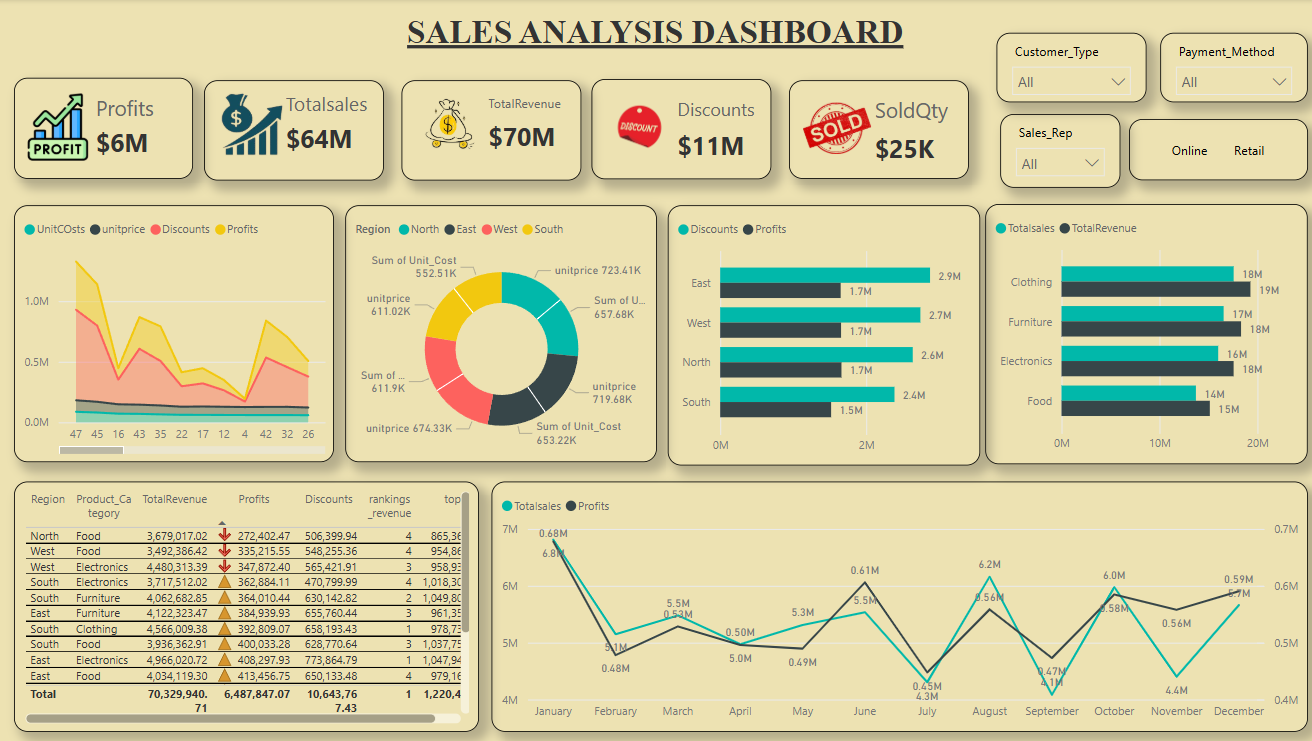

The dashboard page shown, as its layout file describes it:
{"tool":"powerbi","page":{"name":"Page 2","canvas":[1280,720],"ordinal":0},"visuals":[{"type":"clusteredBarChart","fields":{"Category":["sales_data.Product_Category"],"Y":["DATE.Totalsales","sales_data.TotalRevenue"]},"box":[956.4,197.6,311.5,251.1],"z":0},{"type":"clusteredBarChart","fields":{"Y":["sales_data.Discounts","sales_data.Profits"],"Category":["sales_data.Region"]},"box":[650.4,199,301.9,251.1],"z":1000},{"type":"lineChart","fields":{"Y":["DATE.Totalsales"],"Y2":["sales_data.Profits"],"Category":["DATE.Date.Variation.Date Hierarchy.Month"]},"box":[480.2,465.7,787.8,241.3],"z":2000},{"type":"slicer","fields":{"Values":["sales_data.Payment_Method"]},"box":[1125.6,32.6,142.4,67.6],"z":3000},{"type":"slicer","fields":{"Values":["sales_data.Sales_Rep"]},"box":[971.2,111,115.8,71.2],"z":4000},{"type":"slicer","fields":{"Values":["sales_data.Sales_Channel"]},"box":[1095.4,115.8,172.5,59.1],"z":5000},{"type":"cardVisual","fields":{"Data":["sales_data.Profits"]},"box":[19.3,76,172.5,97.7],"z":6000},{"type":"cardVisual","fields":{"Data":["sales_data.TotalRevenue"]},"box":[393.3,78.4,173.7,96.5],"z":7000},{"type":"donutChart","fields":{"Y":["sales_data.unitprice","Sum(sales_data.Unit_Cost)"],"Category":["sales_data.Region"]},"box":[338.9,199,300.5,248.4],"z":8000},{"type":"cardVisual","fields":{"Data":["DATE.Totalsales"]},"box":[202.7,78.4,173.7,96.5],"z":9000},{"type":"cardVisual","fields":{"Data":["sales_data.Discounts"]},"box":[576.7,77.2,173.7,96.5],"z":10000},{"type":"slicer","fields":{"Values":["sales_data.Customer_Type"]},"box":[967.6,32.6,144.8,67.6],"z":11000},{"type":"tableEx","fields":{"Values":["sales_data.Region","sales_data.Product_Category","sales_data.TotalRevenue","sales_data.Profits","sales_data.Discounts","DATE.rankings_revenue","DATE.top"]},"box":[19.2,465.2,448.7,241.5],"z":12000},{"type":"stackedAreaChart","fields":{"Category":["sales_data.Quantity_Sold"],"Y":["sales_data.UnitCOsts","sales_data.unitprice","sales_data.Discounts","sales_data.Profits"]},"box":[19.2,199,308.7,248.4],"z":13000},{"type":"textbox","box":[347.5,8.4,581.5,59.1],"z":14000},{"type":"cardVisual","fields":{"Data":["DATE.TotalSoldQuantity"]},"box":[767.3,78.4,173.7,95.3],"z":15000}]}

Visuals, with their boxes in screenshot pixels (x1, y1, x2, y2), scaled from the page's 1280x720 canvas onto the 1312x741 screenshot:
clusteredBarChart - sales_data.Product_Category x DATE.Totalsales: <region>980, 203, 1300, 462</region>
clusteredBarChart - sales_data.Discounts x sales_data.Profits: <region>667, 205, 976, 463</region>
lineChart - DATE.Totalsales x sales_data.Profits: <region>492, 479, 1300, 728</region>
slicer - sales_data.Payment_Method: <region>1154, 34, 1300, 103</region>
slicer - sales_data.Sales_Rep: <region>995, 114, 1114, 188</region>
slicer - sales_data.Sales_Channel: <region>1123, 119, 1300, 180</region>
cardVisual - sales_data.Profits: <region>20, 78, 197, 179</region>
cardVisual - sales_data.TotalRevenue: <region>403, 81, 581, 180</region>
donutChart - sales_data.unitprice x Sum(sales_data.Unit_Cost): <region>347, 205, 655, 460</region>
cardVisual - DATE.Totalsales: <region>208, 81, 386, 180</region>
cardVisual - sales_data.Discounts: <region>591, 79, 769, 179</region>
slicer - sales_data.Customer_Type: <region>992, 34, 1140, 103</region>
tableEx - sales_data.Region x sales_data.Product_Category: <region>20, 479, 480, 727</region>
stackedAreaChart - sales_data.Quantity_Sold x sales_data.UnitCOsts: <region>20, 205, 336, 460</region>
textbox: <region>356, 9, 952, 69</region>
cardVisual - DATE.TotalSoldQuantity: <region>786, 81, 965, 179</region>
